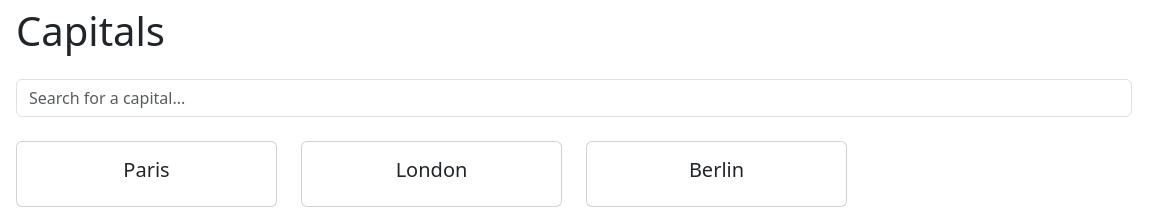
it: CapitalsPage › displays "No capitals found." when search yields no results
Type "zzz" into the field with placeholder "Search for a capital...". click: (574, 98)
box: top-left (16, 79), bottom-right (1132, 117)
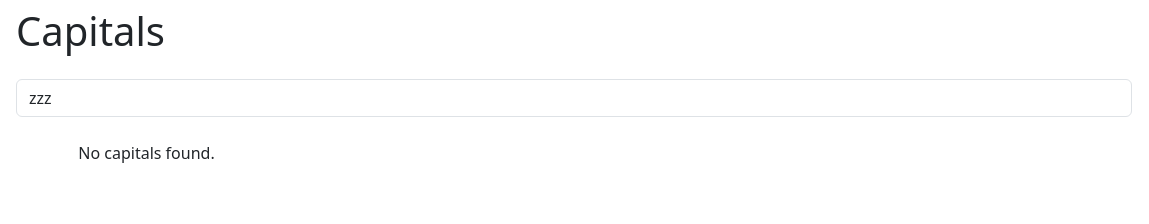
Check: the text "No capitals found." is shown, box top-left (78, 142), bottom-right (215, 164)
